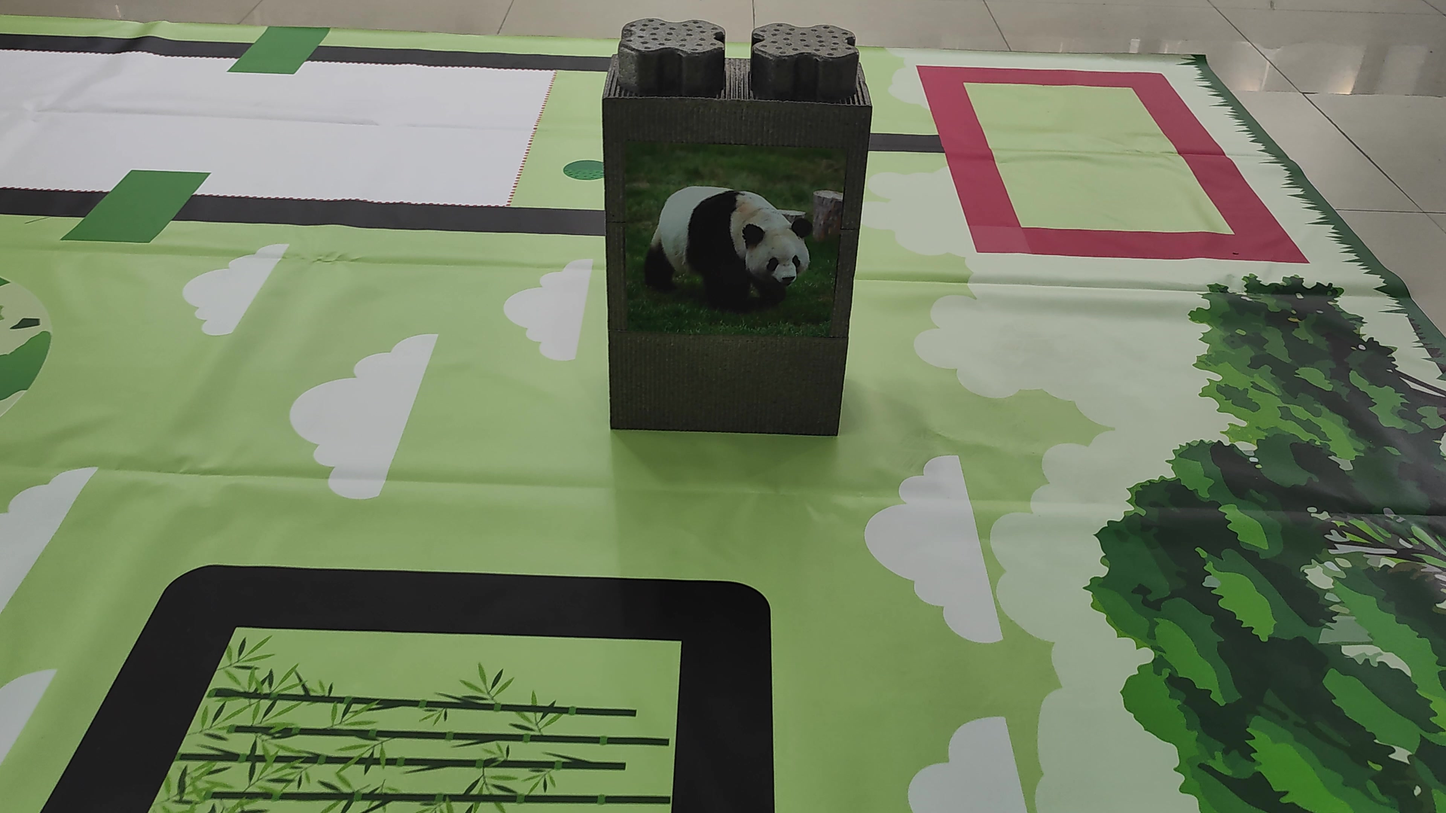panda: (637, 157, 845, 349)
